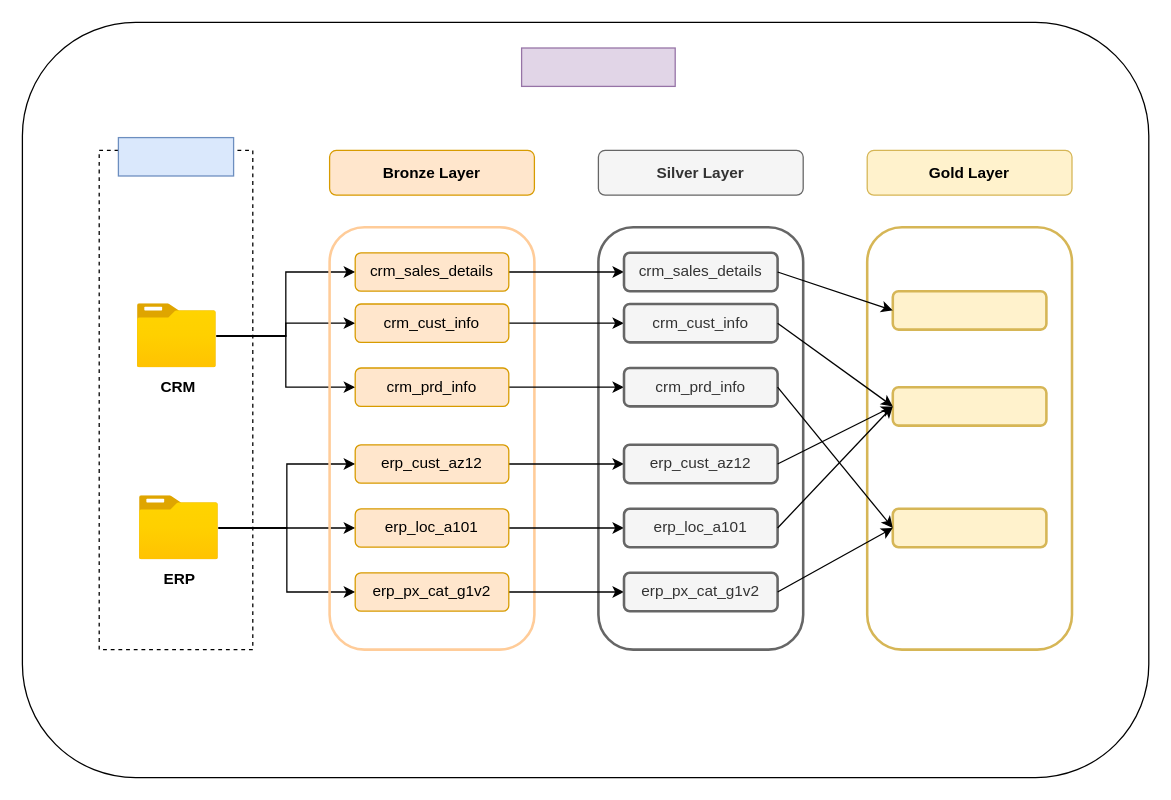
This 1171x800 diagram has some shape labels left out. Here are the shapes that lost their labels. From the top down, the centre of each, then its label:
(597,66): DATAFLOW
(175,156): Sources
(969,309): fact_sales
(969,405): dim_customers
(969,527): dim_products
